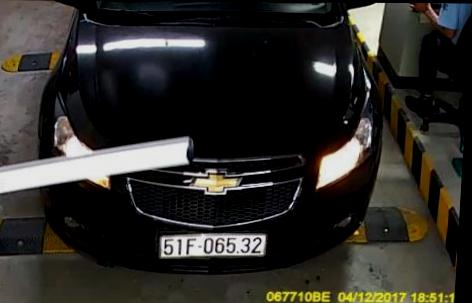License_Plate: (160, 232, 269, 260)
